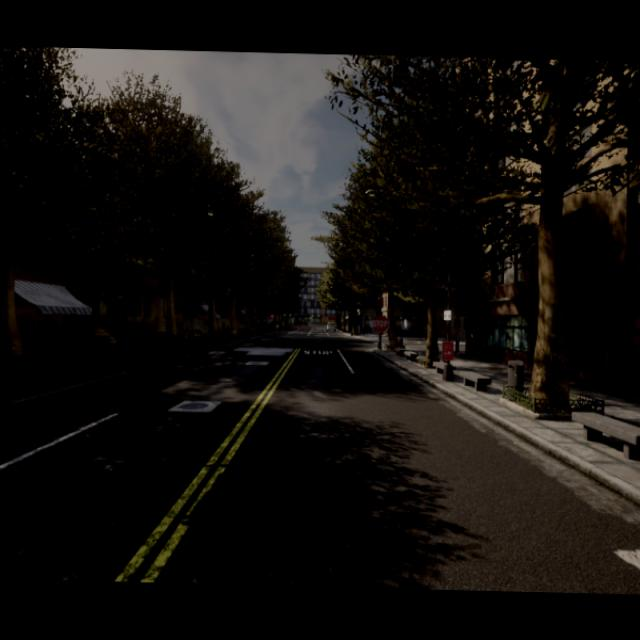stop sign: (369, 310, 391, 350), (370, 313, 390, 334)
